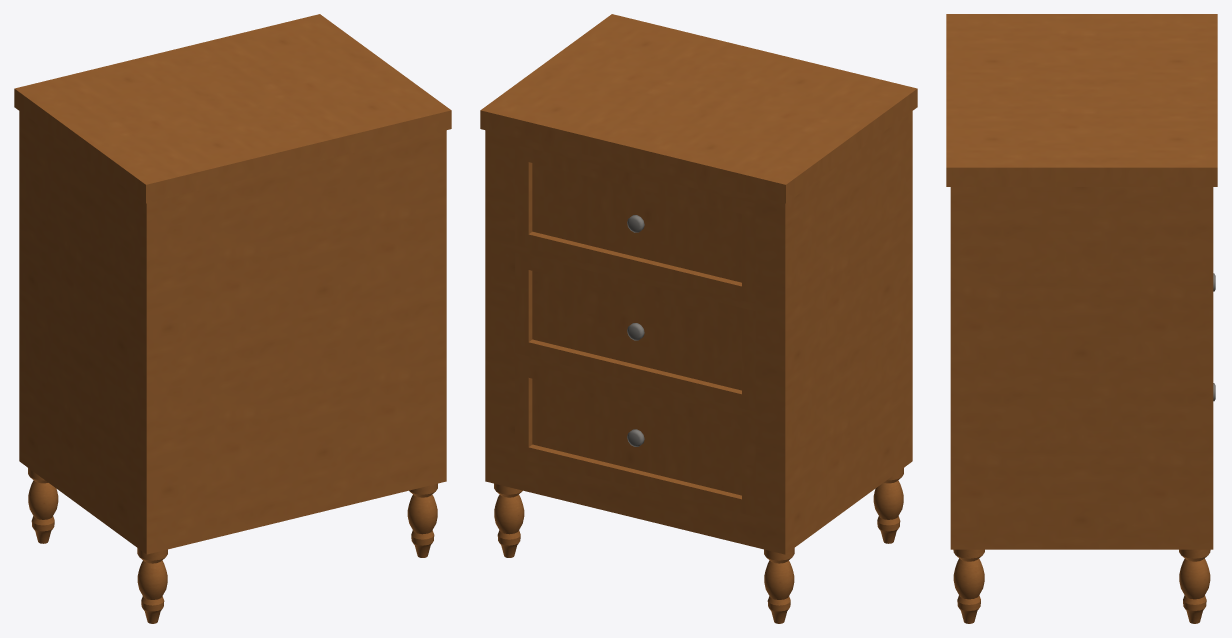
File: Drawer37.fbx
3 renders of one model, left to right at view 1: azimuth 30°, elevation 25°; view 2: azimuth 150°, elevation 25°; view 3: azimuth 270°, elevation 25°, orthographic. The views are drawn at different scales.
Visible parts, largest first — view 1: Drawer37; view 2: Drawer37; view 3: Drawer37.
Part boxes in pixels (x1,y1,x2,y2): Drawer37: [14, 14, 451, 623]; Drawer37: [480, 14, 917, 623]; Drawer37: [946, 14, 1217, 623].
Bounding box in the file's own units: 76.39 × 107 × 56.99.
